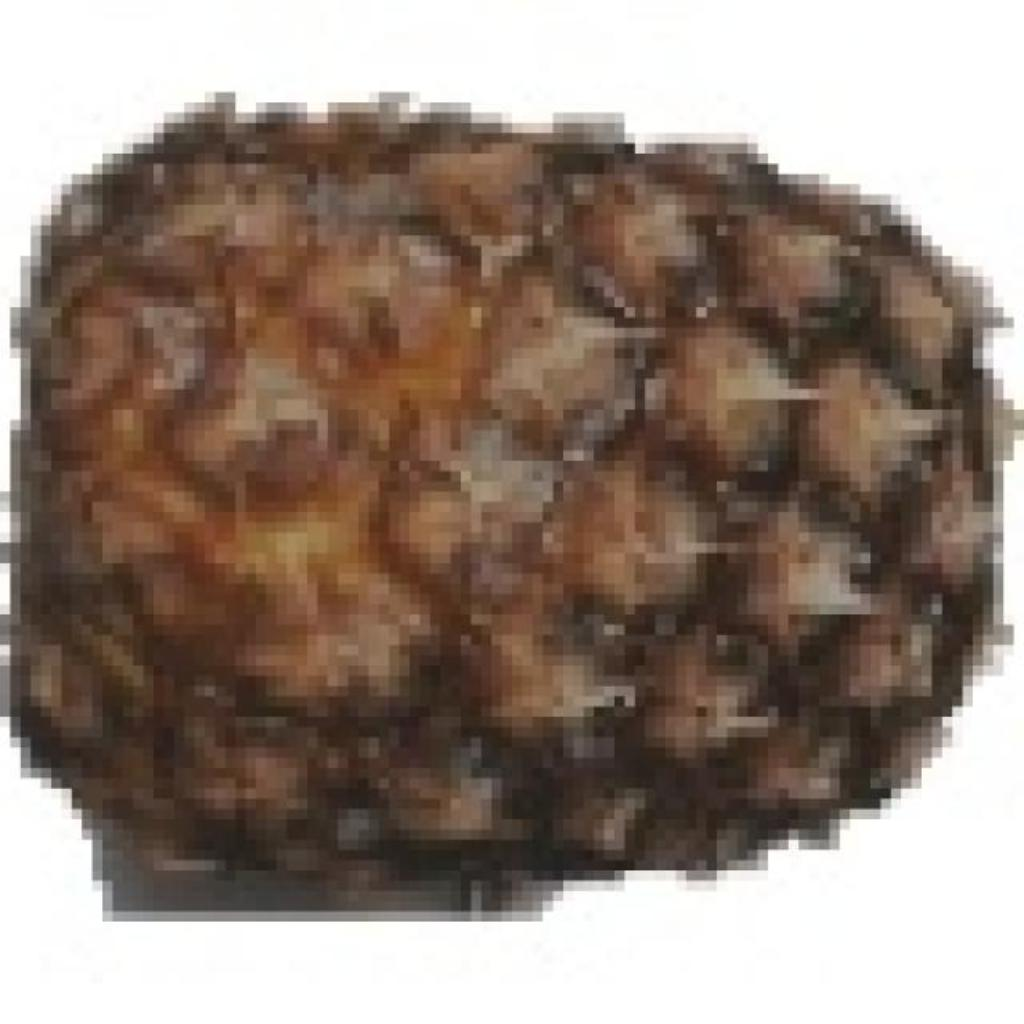pineapple: (41, 92, 1004, 891)
